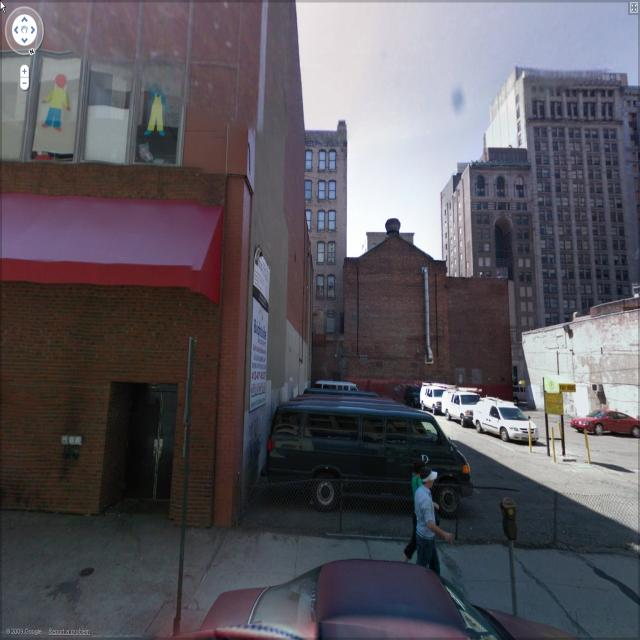b_1: (4, 5, 302, 524), (452, 73, 638, 315), (348, 214, 452, 402), (302, 126, 348, 347)
